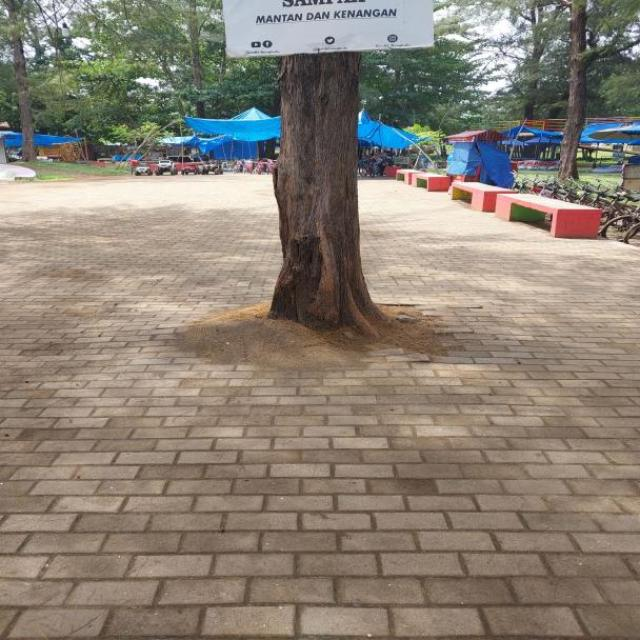tree ahead at: (278, 52, 377, 334)
